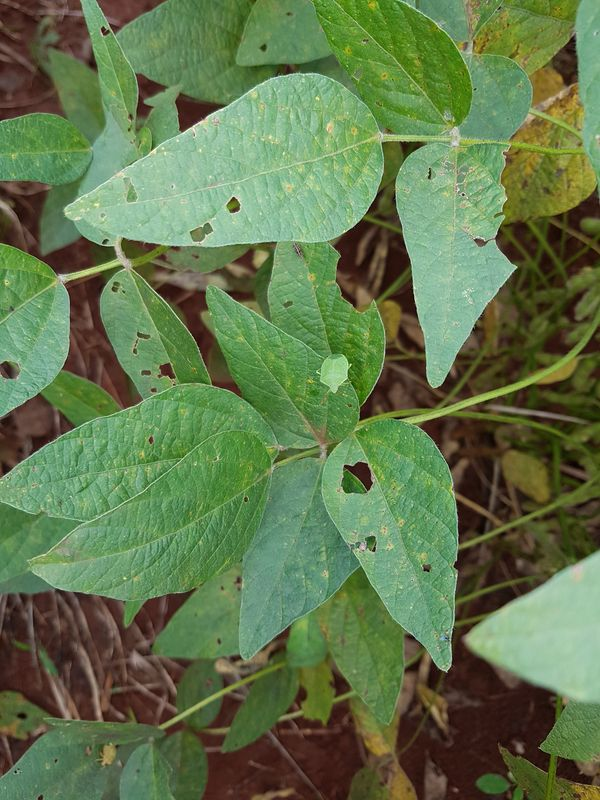Euschistus_heros_ninfa: (93, 738, 122, 772)
Nezara_viridula_adulto: (306, 347, 363, 405)
